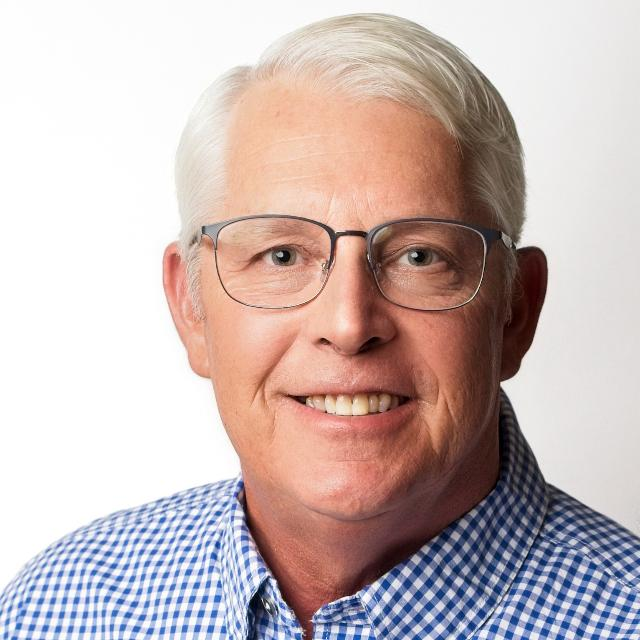frown_line: (316, 189, 336, 223)
gummy_smile: (260, 331, 302, 387), (414, 349, 444, 396)
sad_smile: (254, 386, 286, 436), (418, 410, 444, 458)
